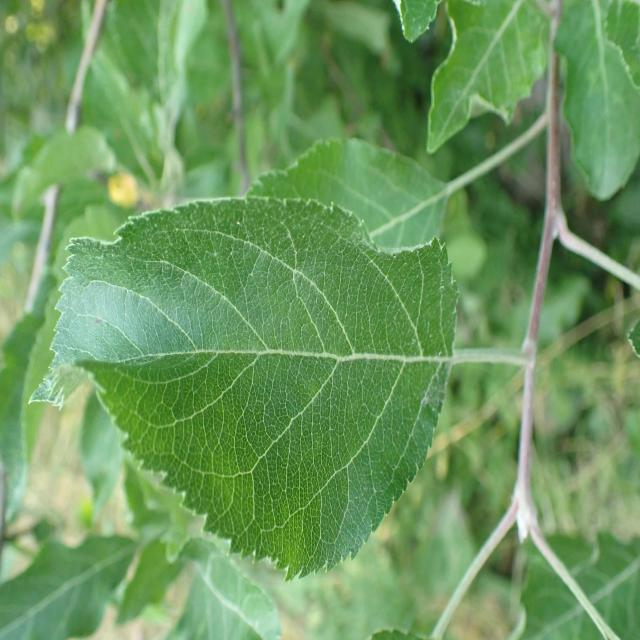healthy: (26, 136, 459, 582), (247, 136, 450, 250), (553, 0, 640, 201)
